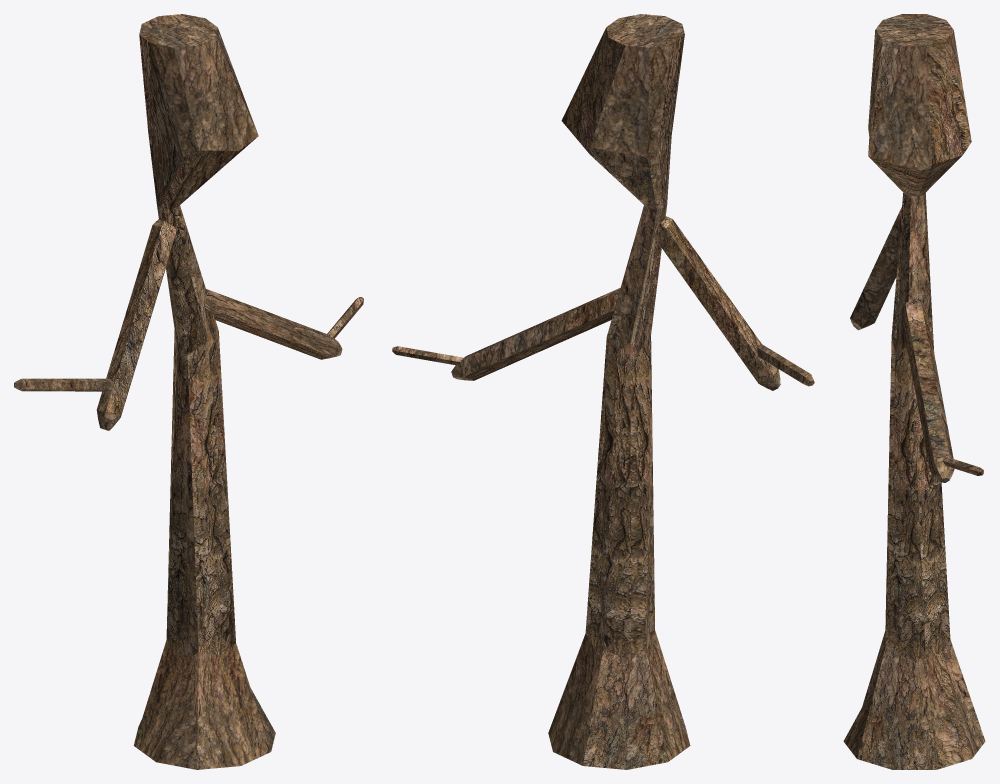
File: humanoidtree_2.glb
The picture shows the model from 3 angles, left to right: view 1: azimuth 30°, elevation 25°; view 2: azimuth 150°, elevation 25°; view 3: azimuth 270°, elevation 25°; orthographic projection. The views are drawn at different scales.
Visible parts, largest first — view 1: tree2; view 2: tree2; view 3: tree2.
Part boxes in pixels (<box>): tree2: <box>14,14,363,769</box>; tree2: <box>392,14,814,769</box>; tree2: <box>843,14,985,769</box>.
Size of what is drawn, in the model's own units: 1.13 by 2 by 0.3692.
1 material, 1 textured.
